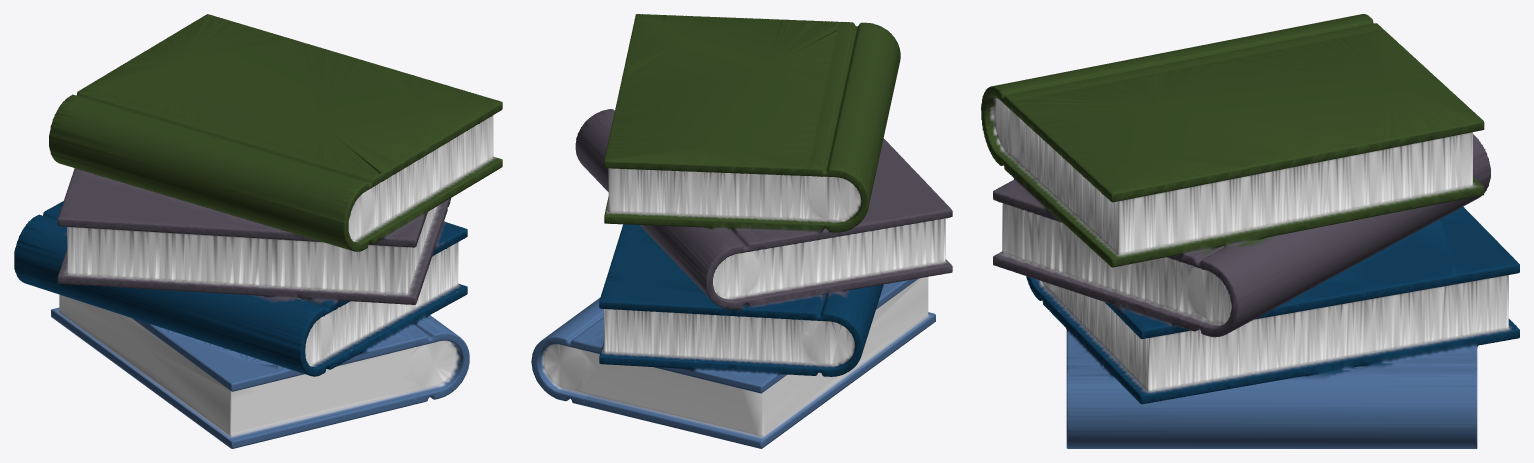
File: book.gltf
3 renders of one model, left to right at view 1: azimuth 30°, elevation 25°; view 2: azimuth 150°, elevation 25°; view 3: azimuth 270°, elevation 25°, orthographic. The views are drawn at different scales.
Visible parts, largest first — view 1: Area (1); view 2: Area (1); view 3: Area (1).
Part boxes in pixels (x1,y1,x2,y2): Area (1): [14, 14, 502, 448]; Area (1): [531, 14, 952, 448]; Area (1): [981, 14, 1519, 448].
Bounding box in the file's own units: 125 × 80.02 × 131.
Materials: 1 (1 with a texture image).
